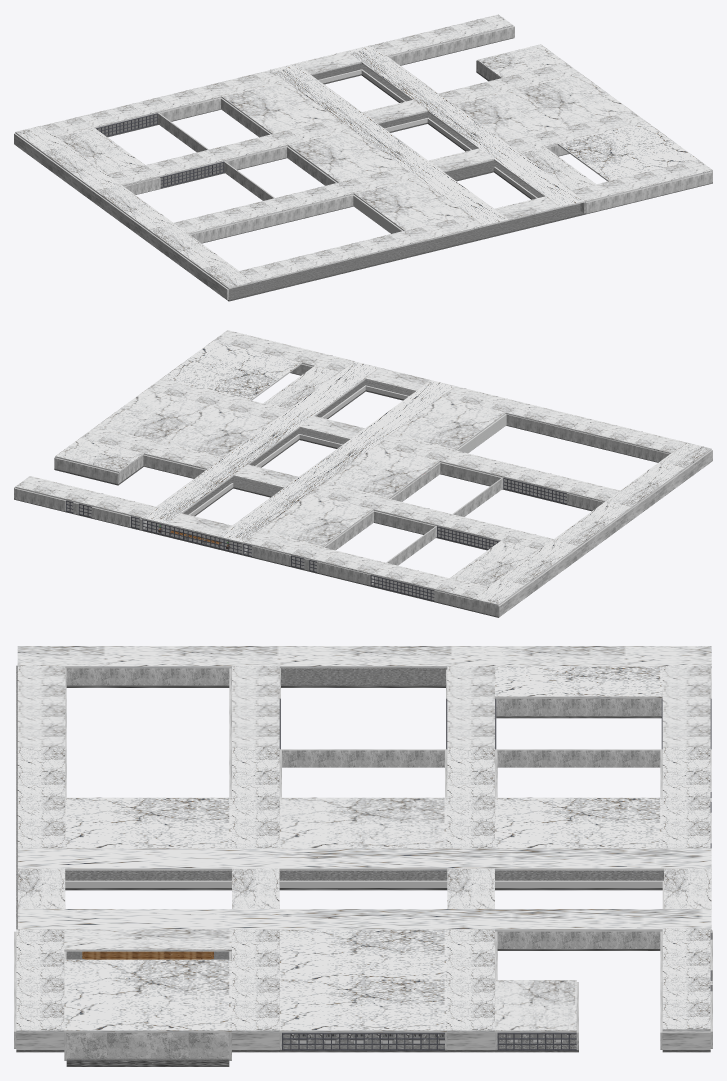
The model's file is UCC.fbx.
3 views of the same model, one above another, from view 1: azimuth 30°, elevation 25°; view 2: azimuth 150°, elevation 25°; view 3: azimuth 270°, elevation 25° (orthographic). The views are drawn at different scales.
Parts seen in each view (by area): view 1: roof-col.025, roof-col.007, roof-col.010, roof-col.003, roof-col.028, roof-col.026, roof-col, roof-col.008, right_wall.066, roof-col.015, roof-col.004, roof-col.006 (+40 smaller); view 2: roof-col.025, roof-col.007, roof-col.010, roof-col.003, roof-col.026, roof-col.028, roof-col, roof-col.008, roof-col.015, right_wall.066, roof-col.020, roof-col.006 (+42 smaller); view 3: roof-col.010, roof-col.025, roof-col.007, roof-col.003, roof-col, roof-col.026, roof-col.028, roof-col.008, roof-col.027, corridor_floor-col.004, roof-col.015, roof-col.029 (+38 smaller).
Boxes of the visible parts, left/top/right/bottom form: roof-col.025: left=15, top=125, right=253, bottom=289; roof-col.007: left=347, top=45, right=585, bottom=208; roof-col.010: left=270, top=63, right=508, bottom=226; roof-col.003: left=557, top=121, right=697, bottom=181; roof-col.028: left=353, top=177, right=468, bottom=230; roof-col.026: left=221, top=81, right=336, bottom=134; roof-col: left=517, top=73, right=631, bottom=126; roof-col.008: left=453, top=89, right=567, bottom=141; right_wall.066: left=14, top=133, right=228, bottom=300; roof-col.015: left=287, top=129, right=366, bottom=182; roof-col.004: left=571, top=159, right=712, bottom=202; roof-col.006: left=371, top=14, right=512, bottom=56; roof-col.025: left=472, top=442, right=711, bottom=605; roof-col.007: left=141, top=361, right=379, bottom=525; roof-col.010: left=217, top=380, right=455, bottom=543; roof-col.003: left=161, top=341, right=301, bottom=400; roof-col.026: left=258, top=494, right=373, bottom=547; roof-col.028: left=391, top=397, right=505, bottom=450; roof-col: left=95, top=389, right=209, bottom=442; roof-col.008: left=159, top=405, right=273, bottom=457; roof-col.015: left=330, top=446, right=439, bottom=498; right_wall.066: left=498, top=450, right=712, bottom=616; roof-col.020: left=243, top=531, right=385, bottom=574; roof-col.006: left=15, top=476, right=156, bottom=518; roof-col.010: left=17, top=848, right=711, bottom=870; roof-col.025: left=17, top=646, right=711, bottom=668; roof-col.007: left=17, top=909, right=711, bottom=931; roof-col.003: left=64, top=959, right=231, bottom=1032; roof-col: left=279, top=980, right=447, bottom=1032; roof-col.026: left=495, top=797, right=662, bottom=848; roof-col.028: left=65, top=797, right=231, bottom=848; roof-col.008: left=279, top=929, right=447, bottom=979; roof-col.027: left=279, top=797, right=447, bottom=848; corridor_floor-col.004: left=16, top=868, right=663, bottom=890; roof-col.015: left=279, top=797, right=446, bottom=848; roof-col.029: left=495, top=666, right=662, bottom=698.
Bounding box in the file's own units: 383 × 292 × 16.
